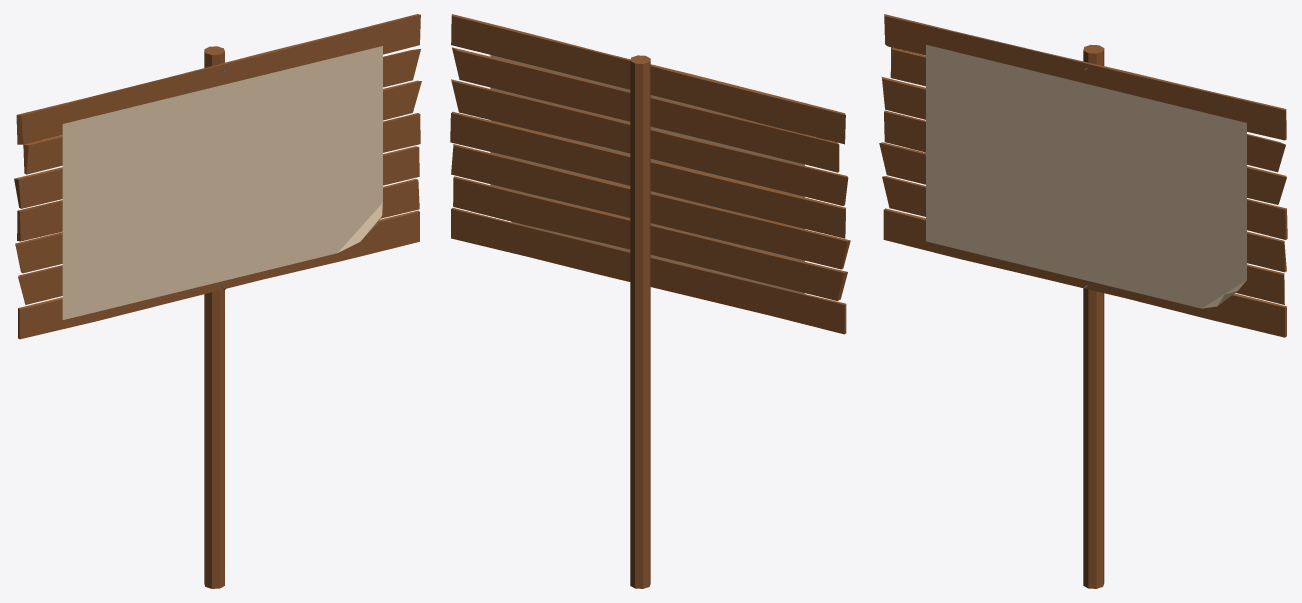
File: wooden-board-2-01.fbx
The picture shows the model from 3 angles, left to right: view 1: azimuth 30°, elevation 25°; view 2: azimuth 150°, elevation 25°; view 3: azimuth 330°, elevation 25°; orthographic projection.
Visible parts, largest first — view 1: Board; view 2: Board; view 3: Board.
Part boxes in pixels (x1=…): Board: x1=14, y1=14, x2=421, y2=588; Board: x1=450, y1=14, x2=850, y2=588; Board: x1=879, y1=14, x2=1287, y2=588.
Bounding box in the file's own units: 434 × 544 × 40.13.
